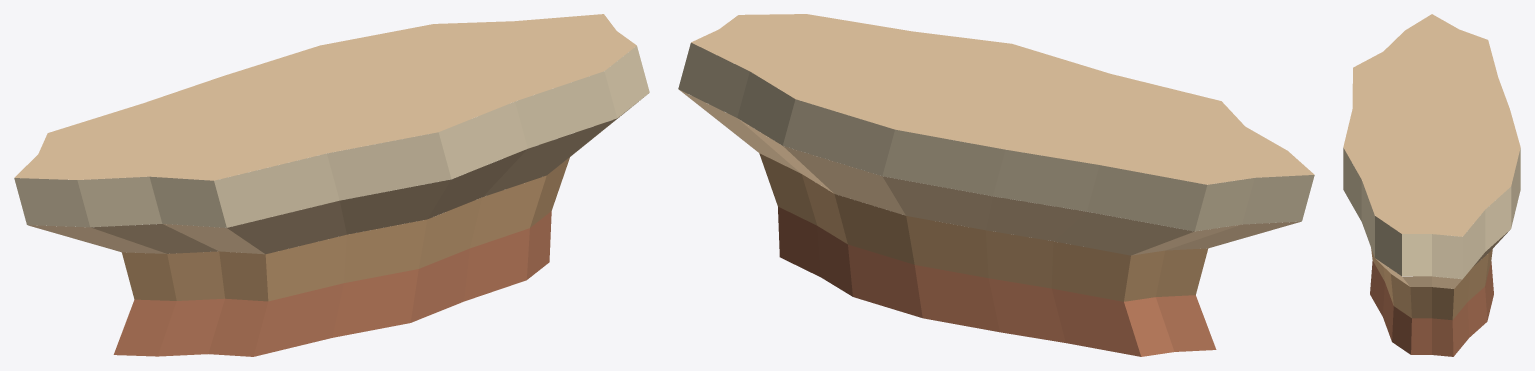
The model's file is desert-canyons-and-oases-undercut-bank-70c72efe__20966.glb.
The picture shows the model from 3 angles, left to right: view 1: azimuth 30°, elevation 25°; view 2: azimuth 150°, elevation 25°; view 3: azimuth 270°, elevation 25°; orthographic projection. The views are drawn at different scales.
Visible parts, largest first — view 1: undercut-bank; view 2: undercut-bank; view 3: undercut-bank.
Part boxes in pixels (x1=…): undercut-bank: x1=14, y1=14, x2=649, y2=356; undercut-bank: x1=678, y1=14, x2=1314, y2=356; undercut-bank: x1=1343, y1=14, x2=1520, y2=356.
Bounding box in the file's own units: 4.21 × 1.3 × 1.39.
